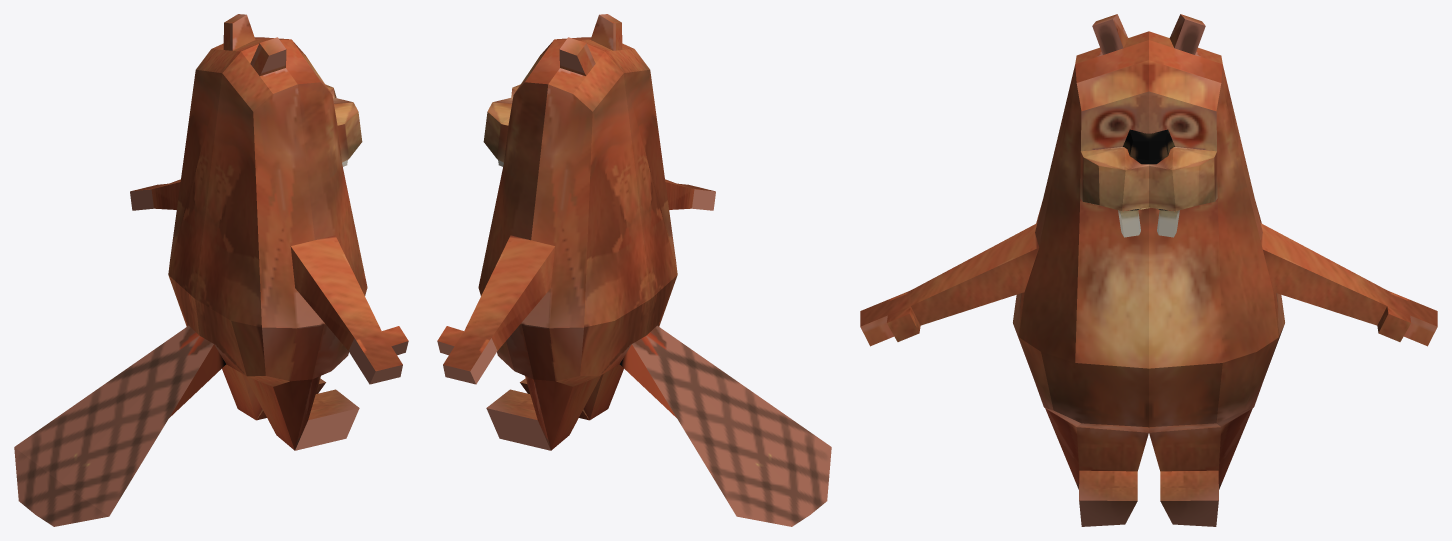
Rendered from beaver.fbx.
The picture shows the model from 3 angles, left to right: view 1: azimuth 30°, elevation 25°; view 2: azimuth 150°, elevation 25°; view 3: azimuth 270°, elevation 25°; orthographic projection. The views are drawn at different scales.
Parts seen in each view (by area): view 1: Roundcube; view 2: Roundcube; view 3: Roundcube.
Part boxes in pixels (left/top/right/bottom): Roundcube: left=14, top=14, right=408, bottom=526; Roundcube: left=437, top=14, right=831, bottom=526; Roundcube: left=860, top=14, right=1437, bottom=526.
Size of the model in its own units: 372 by 495 by 508.
